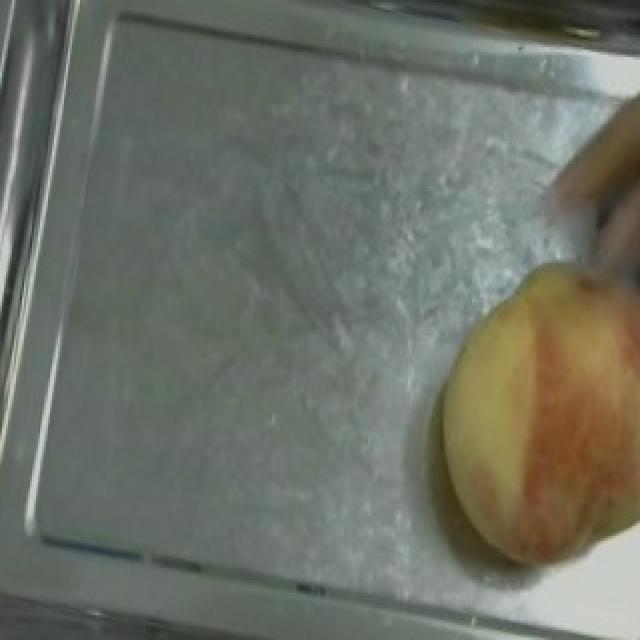Fruit: (406, 240, 640, 590), (524, 67, 640, 310)
